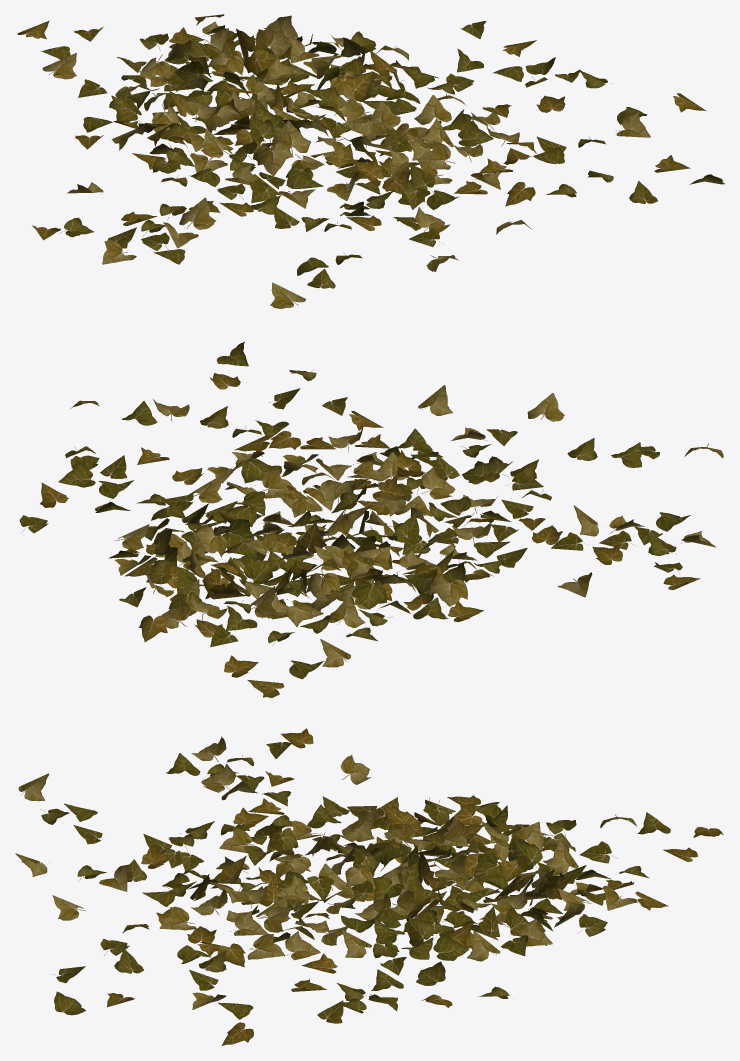
File: SM_LeavesPile_01a.fbx
The picture shows the model from 3 angles, top to bottom: view 1: azimuth 30°, elevation 25°; view 2: azimuth 150°, elevation 25°; view 3: azimuth 270°, elevation 25°; orthographic projection. The views are drawn at different scales.
Visible parts, largest first — view 1: SM_LeavesPile_01a_LOD0; view 2: SM_LeavesPile_01a_LOD0; view 3: SM_LeavesPile_01a_LOD0.
Part boxes in pixels (left/top/right/bottom): SM_LeavesPile_01a_LOD0: left=17, top=14, right=724, bottom=308; SM_LeavesPile_01a_LOD0: left=19, top=341, right=723, bottom=697; SM_LeavesPile_01a_LOD0: left=15, top=728, right=723, bottom=1045.
Size of the model in its own units: 436 by 425 by 29.39.
1 material, 1 textured.
